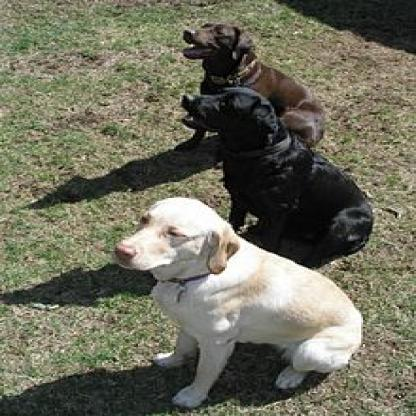dog: (108, 199, 361, 408), (169, 85, 370, 249), (185, 24, 327, 144)
